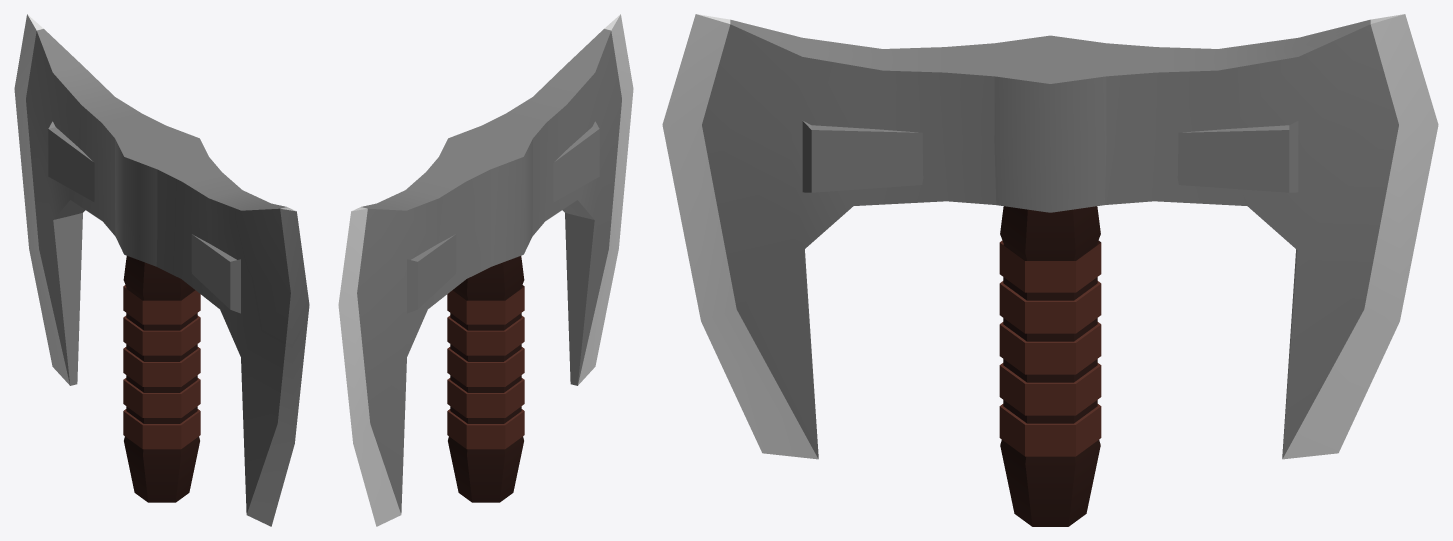
The model's file is Axe11.glb.
3 views of the same model, side by side, from view 1: azimuth 30°, elevation 25°; view 2: azimuth 150°, elevation 25°; view 3: azimuth 270°, elevation 25° (orthographic). The views are drawn at different scales.
Visible parts, largest first — view 1: weapon_generator; view 2: weapon_generator; view 3: weapon_generator.
Boxes of the visible parts, bbox=[...] form: weapon_generator: bbox=[14, 14, 309, 526]; weapon_generator: bbox=[338, 14, 633, 526]; weapon_generator: bbox=[662, 14, 1438, 526].
Bounding box in the file's own units: 0.0451 × 0.2167 × 0.305.
